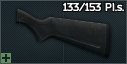MP-133%5153 plastic stock: (0, 0, 127, 64)
